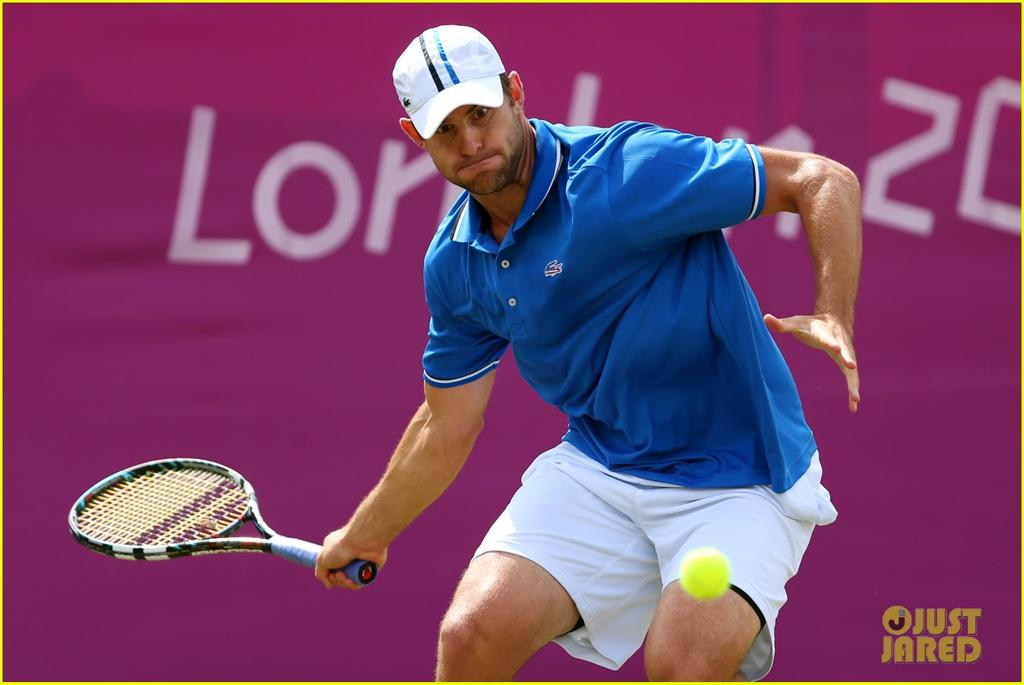face: (416, 88, 520, 192)
